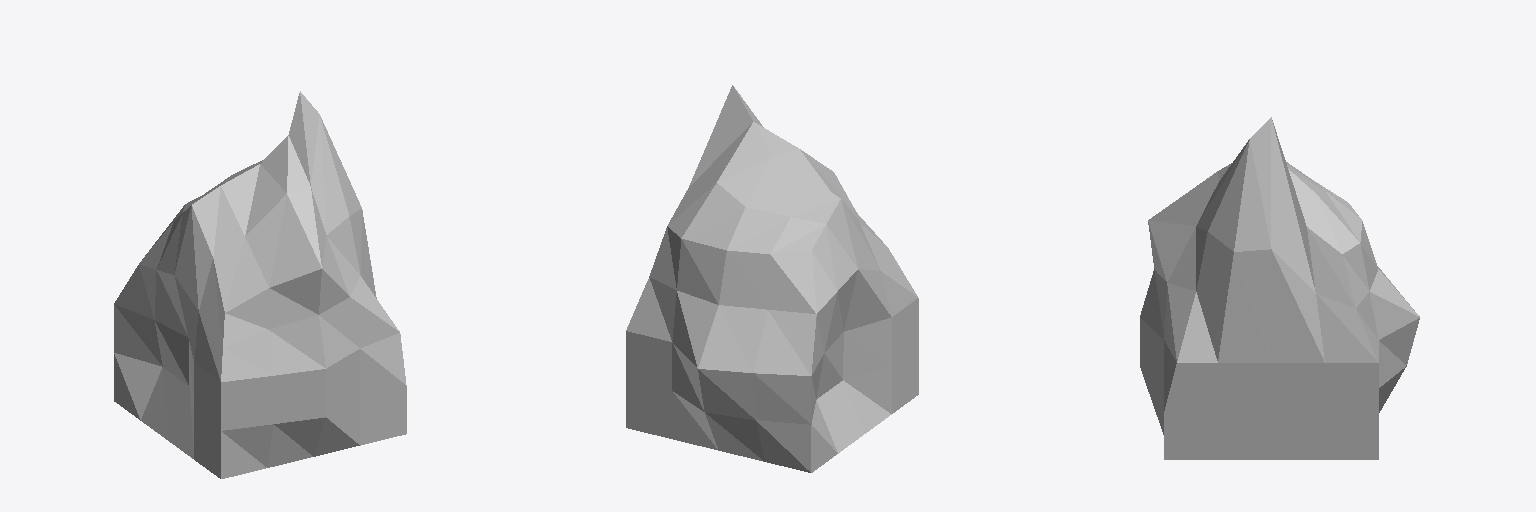
Rendered from abstr_2.obj.
3 renders of one model, left to right at view 1: azimuth 30°, elevation 25°; view 2: azimuth 150°, elevation 25°; view 3: azimuth 270°, elevation 25°, orthographic.
Parts seen in each view (by area): view 1: experimental_obj_1.001; view 2: experimental_obj_1.001; view 3: experimental_obj_1.001.
Boxes of the visible parts, x1=… form: experimental_obj_1.001: x1=114, y1=91, x2=406, y2=478; experimental_obj_1.001: x1=626, y1=85, x2=918, y2=472; experimental_obj_1.001: x1=1140, y1=117, x2=1419, y2=459.
Bounding box in the file's own units: 0.04 × 0.0653 × 0.0524.